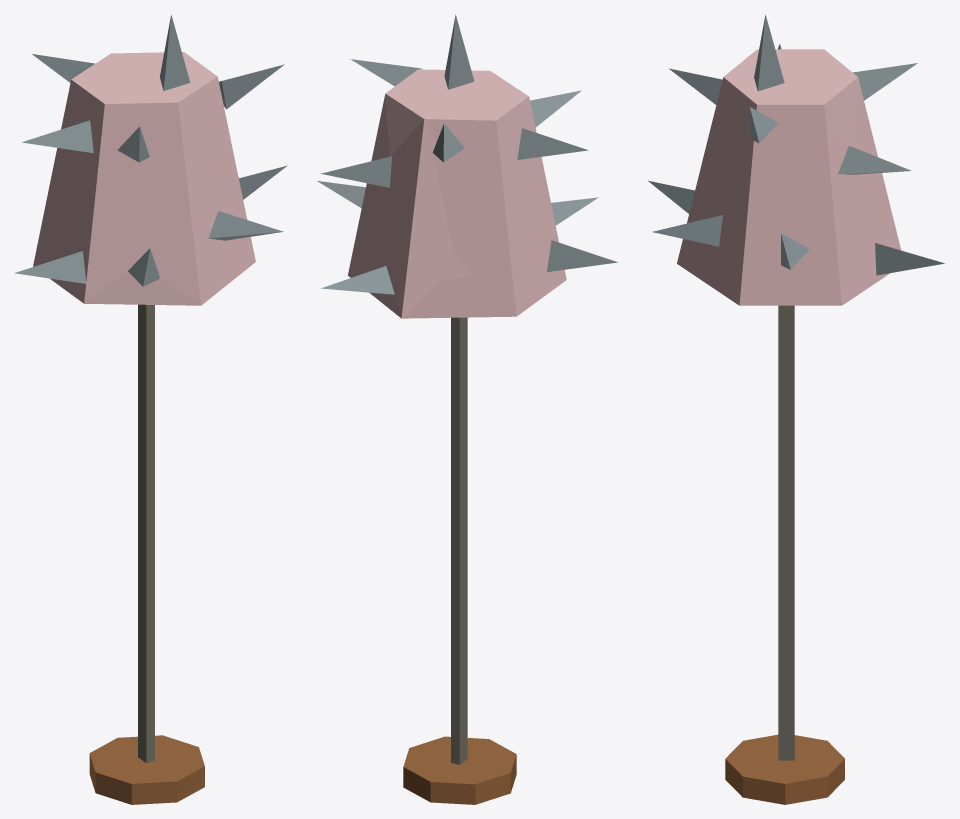
The model's file is S Lamp.fbx.
3 renders of one model, left to right at view 1: azimuth 30°, elevation 25°; view 2: azimuth 150°, elevation 25°; view 3: azimuth 270°, elevation 25°, orthographic. The views are drawn at different scales.
Visible parts, largest first — view 1: Spiked Lamp; view 2: Spiked Lamp; view 3: Spiked Lamp.
Part boxes in pixels (x1,y1,x2,y2): Spiked Lamp: [14, 15, 287, 804]; Spiked Lamp: [317, 14, 617, 804]; Spiked Lamp: [648, 14, 944, 804].
Bounding box in the file's own units: 87.2 × 221 × 77.19.
